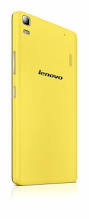lenovo: (9, 9, 79, 187)
